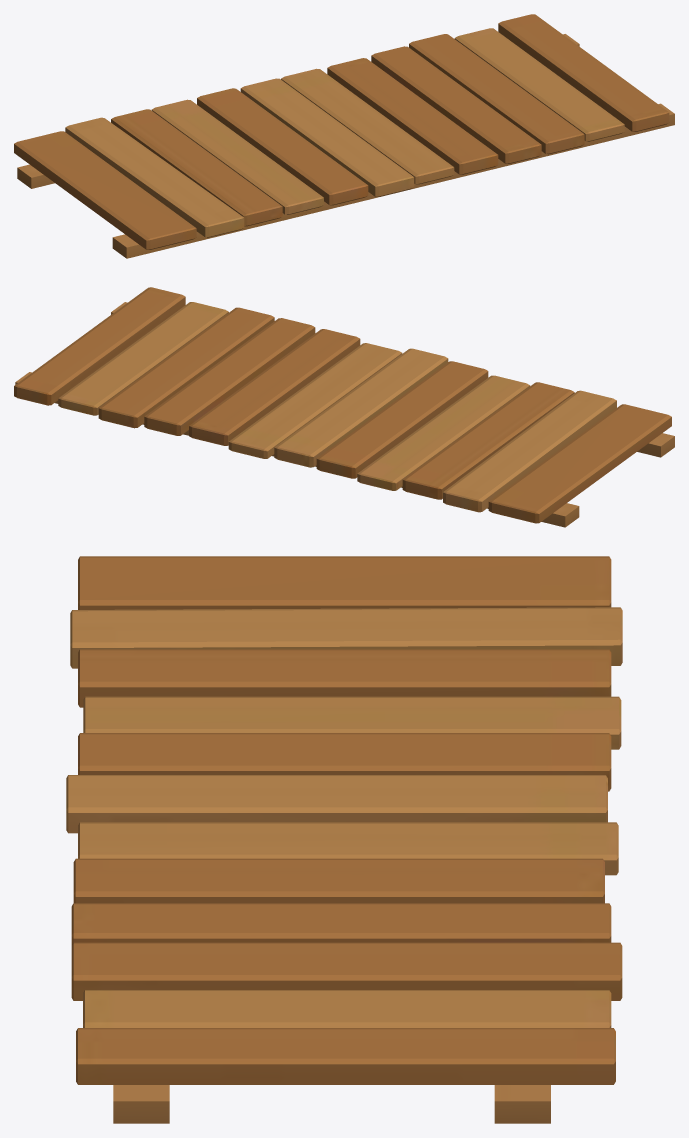
Rendered from footbridge.glb.
3 views of the same model, one above another, from view 1: azimuth 30°, elevation 25°; view 2: azimuth 150°, elevation 25°; view 3: azimuth 270°, elevation 25° (orthographic). The views are drawn at different scales.
Parts seen in each view (by area): view 1: footbridge; view 2: footbridge; view 3: footbridge.
Boxes of the visible parts, bbox=[...] form: footbridge: bbox=[14, 14, 674, 258]; footbridge: bbox=[14, 287, 674, 527]; footbridge: bbox=[66, 556, 622, 1123].
Size of the model in its own units: 4.81 by 0.198 by 2.11.
Materials: 1 (1 with a texture image).
